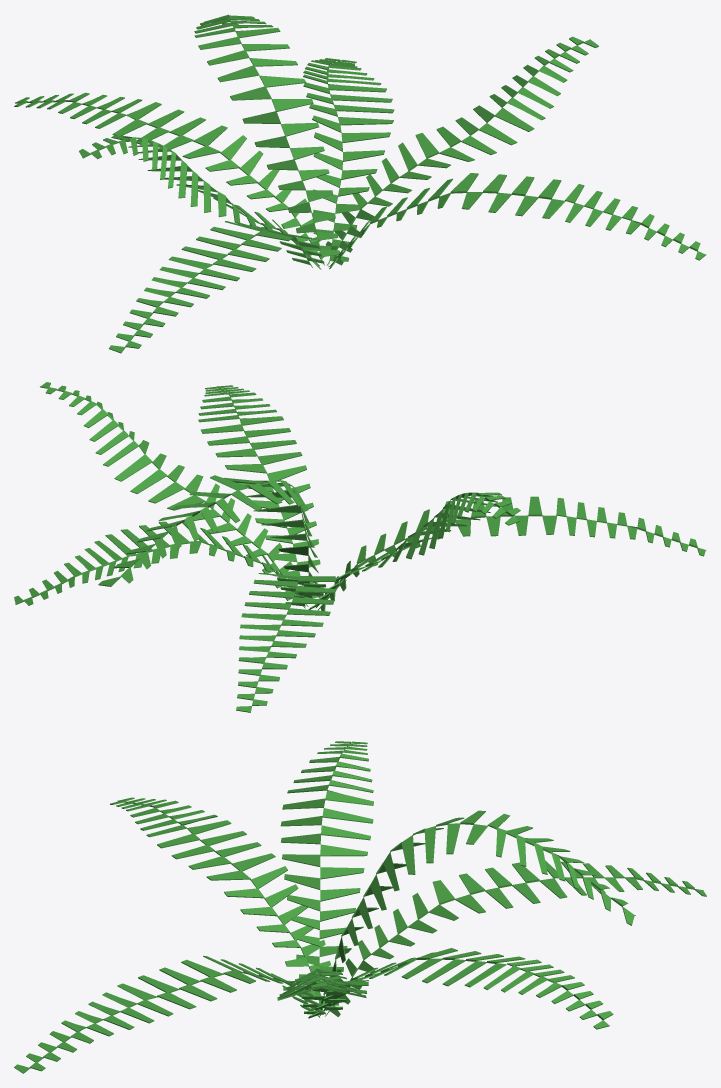
File: farn.fbx
3 views of the same model, one above another, from view 1: azimuth 30°, elevation 25°; view 2: azimuth 150°, elevation 25°; view 3: azimuth 270°, elevation 25° (orthographic). The views are drawn at different scales.
Parts seen in each view (by area): view 1: farn; view 2: farn; view 3: farn.
Boxes of the visible parts, bbox=[...] form: farn: bbox=[14, 14, 706, 353]; farn: bbox=[14, 382, 706, 712]; farn: bbox=[14, 741, 706, 1073].
Bounding box in the file's own units: 164 × 48.88 × 165.
